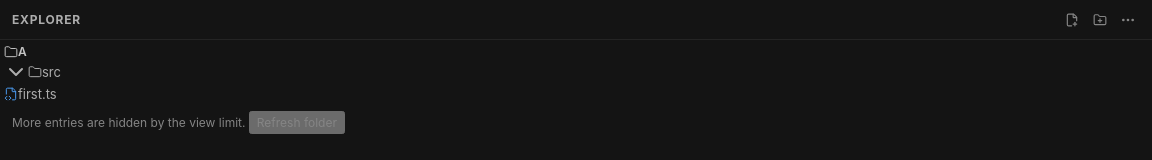
Test case: folder lifecycle public seam › refreshes a truncated Explorer listing through the Project port and shows the new entries
Expected: the text "More entries are hidden by the view limit." is shown, [12,115,245,130]
Click the button "Refresh folder".
click(297, 123)  # box [249,111,345,134]
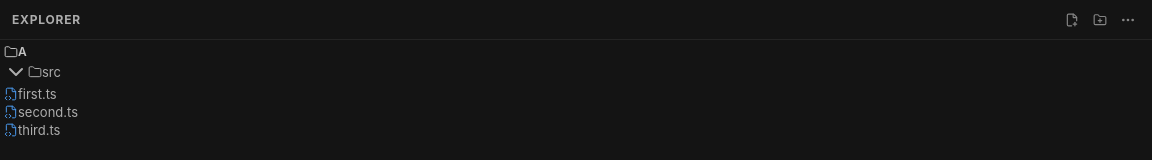
Now the list item with aria-label "Open file src/third.ts" is shown, box [4,121,1148,139]
Now the list item with aria-label "Open file src/second.ts" is shown, box [4,103,1148,121]
Now the text "More entries are hidden by the view limit." is gone
